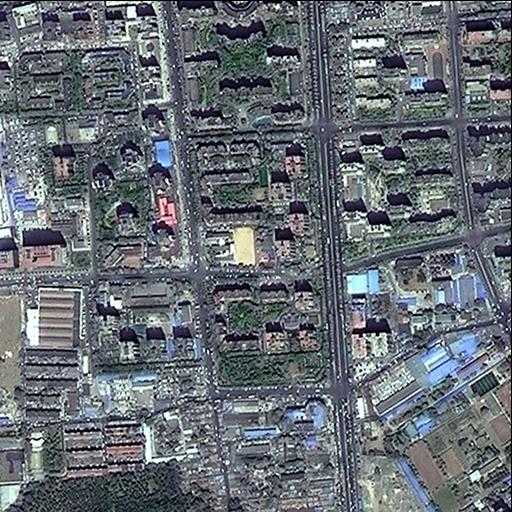school: (200, 222, 260, 272), (400, 44, 456, 92)
